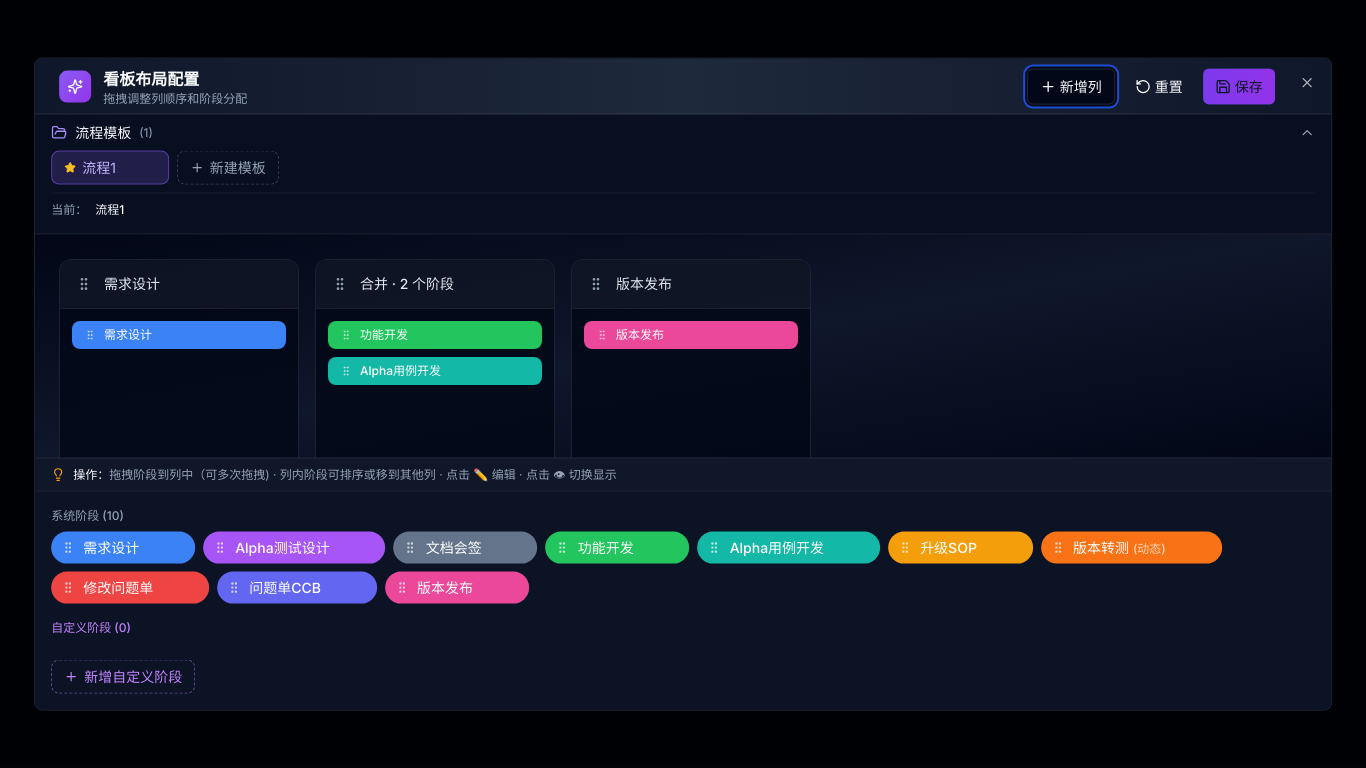
Test: KanbanConfigDialog › 自定义阶段管理 › 点击新增自定义阶段按钮显示输入对话框
Expected: the text "新增自定义阶段" is shown, [84,666,182,686]
Click the button "新增自定义阶段" at (123,676), box [51,659,195,693]
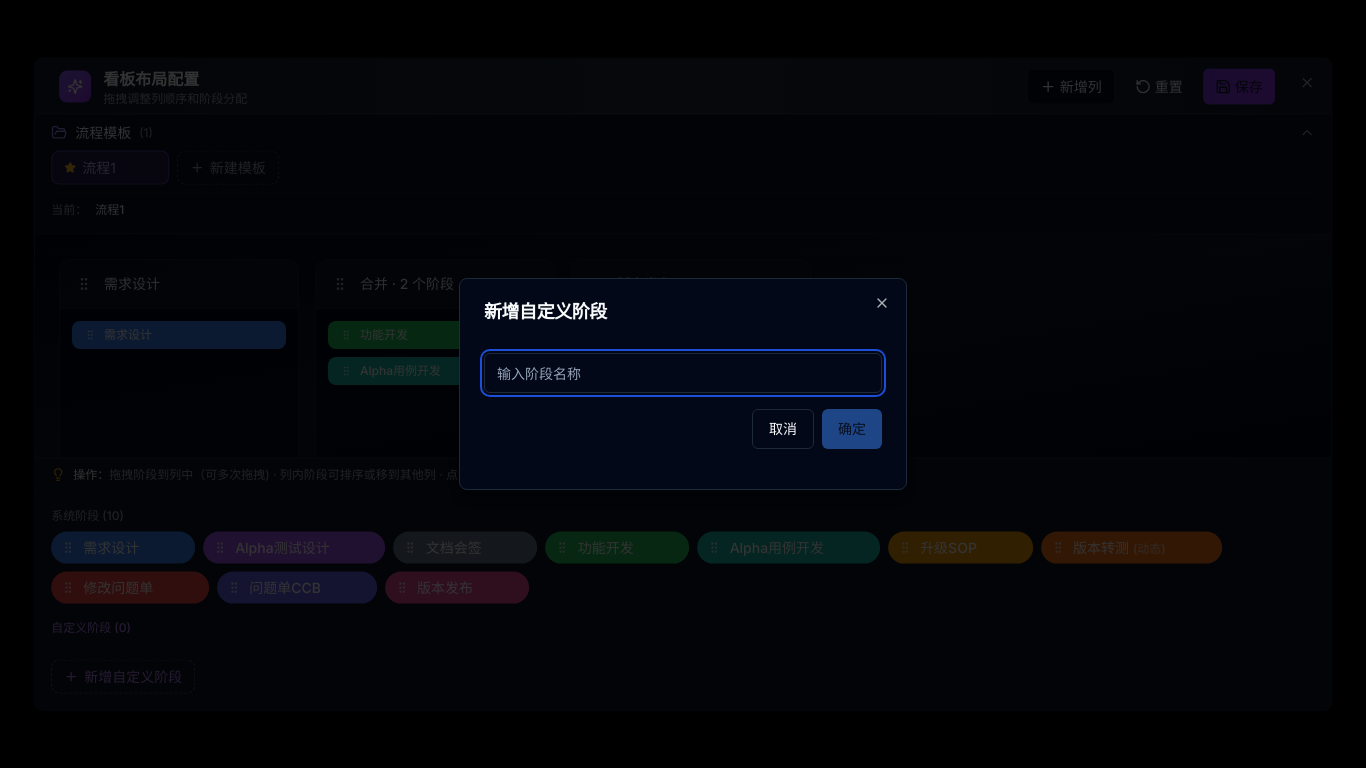
Expected: the field with placeholder "输入阶段名称" is shown, [484,353,882,393]
